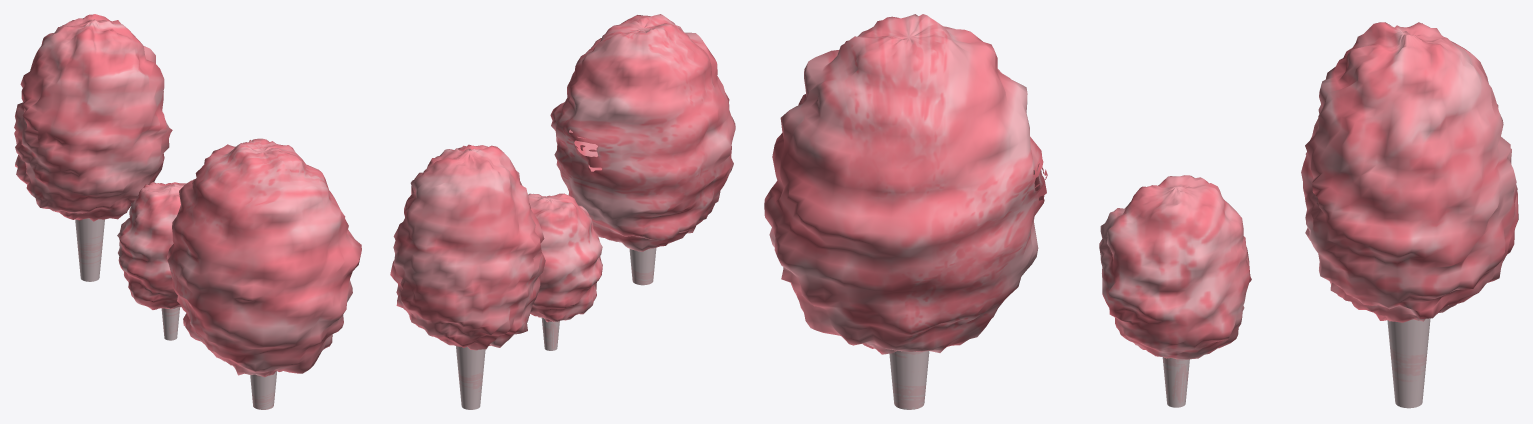
The model's file is cotton candy trees.fbx.
3 renders of one model, left to right at view 1: azimuth 30°, elevation 25°; view 2: azimuth 150°, elevation 25°; view 3: azimuth 270°, elevation 25°, orthographic. The views are drawn at different scales.
Visible parts, largest first — view 1: boom_3, boom_2, boom_1; view 2: boom_3, boom_2, boom_1; view 3: boom_3, boom_2, boom_1.
Part boxes in pixels (x1,y1,x2,y2): boom_3: (167,138,361,409); boom_2: (14,14,172,281); boom_1: (117,182,186,340); boom_3: (550,14,735,285); boom_2: (390,144,545,409); boom_1: (528,193,602,350); boom_3: (764,14,1047,409); boom_2: (1301,22,1518,408); boom_1: (1099,175,1251,407).
Bounding box in the file's own units: 12.85 × 19.41 × 35.15.
1 material, 1 textured.
